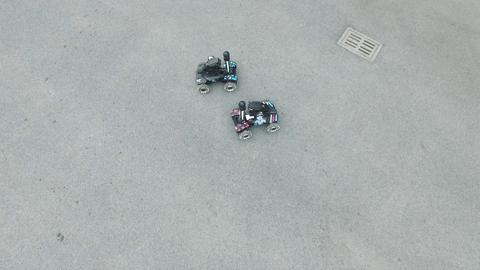chariot: (222, 98, 286, 142), (193, 49, 239, 98)
